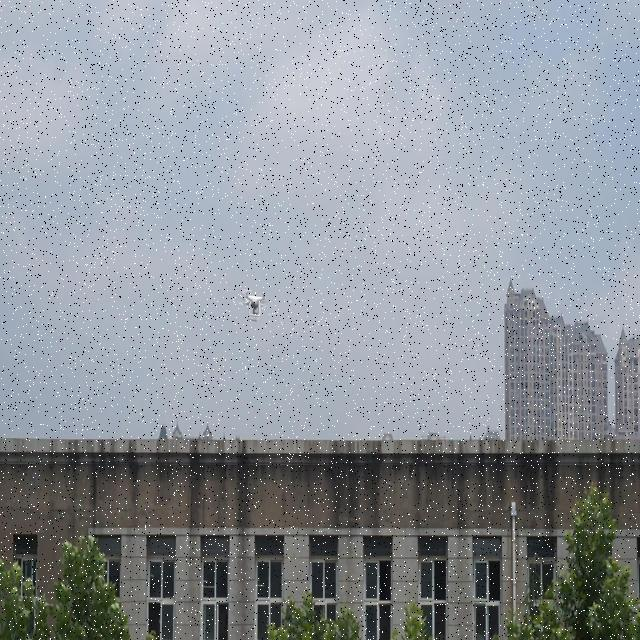UAV: (239, 289, 267, 321)
